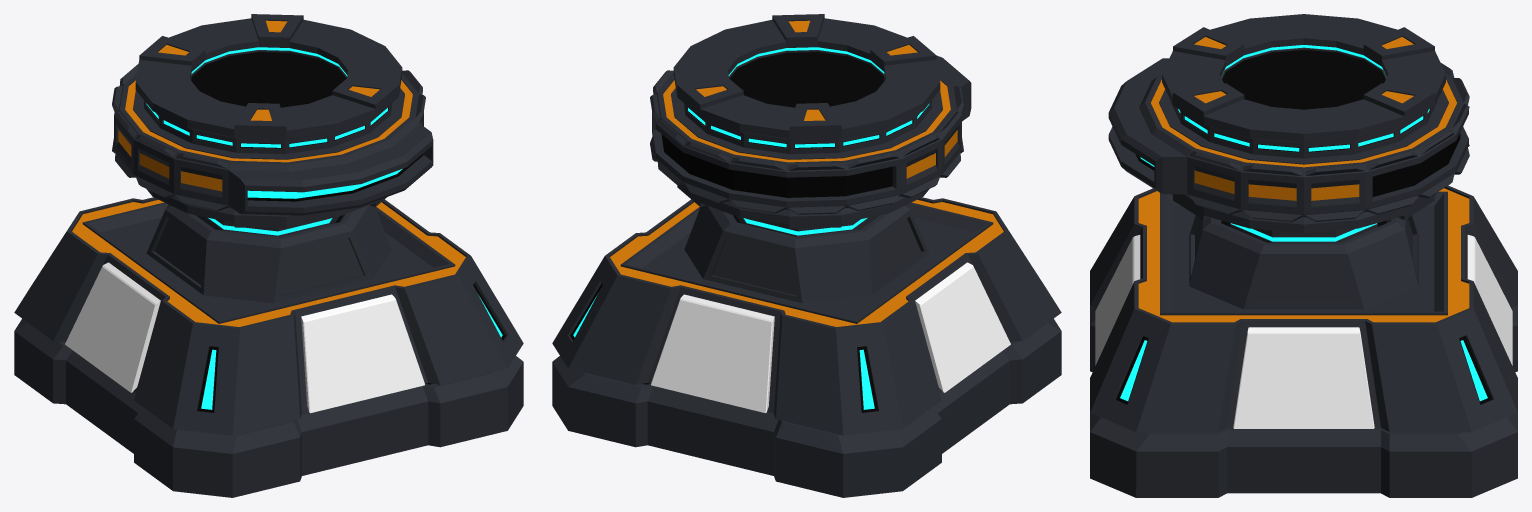
File: SM_Turret_PlasmaDiscLauncher.fbx
The picture shows the model from 3 angles, left to right: view 1: azimuth 30°, elevation 25°; view 2: azimuth 150°, elevation 25°; view 3: azimuth 270°, elevation 25°; orthographic projection. The views are drawn at different scales.
Parts seen in each view (by area): view 1: SM_Turret_PlasmaDiscLauncher, SM_Turret_PlasmaDiscLauncher_Weapon, SM_Turret_PlasmaDiscLauncher_Rotator; view 2: SM_Turret_PlasmaDiscLauncher, SM_Turret_PlasmaDiscLauncher_Weapon, SM_Turret_PlasmaDiscLauncher_Rotator; view 3: SM_Turret_PlasmaDiscLauncher, SM_Turret_PlasmaDiscLauncher_Weapon, SM_Turret_PlasmaDiscLauncher_Rotator.
Boxes of the visible parts, box(x1,y1,x2,y2) form: SM_Turret_PlasmaDiscLauncher: box(14, 197, 523, 497); SM_Turret_PlasmaDiscLauncher_Weapon: box(112, 14, 433, 228); SM_Turret_PlasmaDiscLauncher_Rotator: box(146, 204, 391, 303); SM_Turret_PlasmaDiscLauncher: box(552, 197, 1061, 497); SM_Turret_PlasmaDiscLauncher_Weapon: box(650, 14, 971, 228); SM_Turret_PlasmaDiscLauncher_Rotator: box(684, 204, 929, 303); SM_Turret_PlasmaDiscLauncher: box(1090, 185, 1517, 497); SM_Turret_PlasmaDiscLauncher_Weapon: box(1108, 14, 1469, 232); SM_Turret_PlasmaDiscLauncher_Rotator: box(1189, 215, 1418, 309).
Bounding box in the file's own units: 1 × 0.872 × 1.
